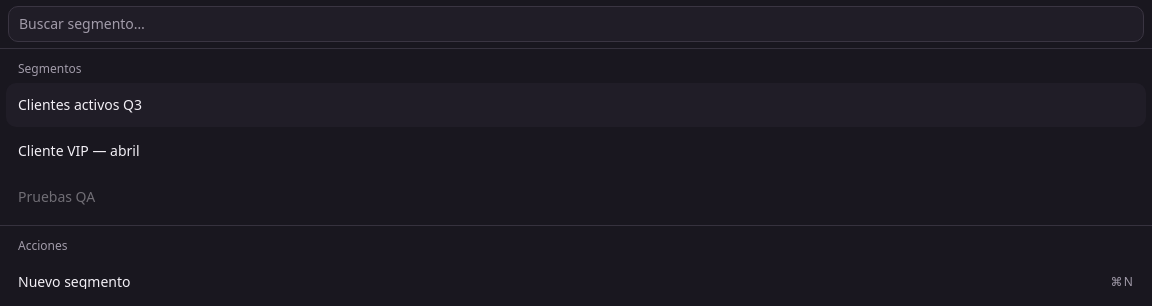
Command › shows the empty message when nothing matches
Step 1. Type "@@@" into the dropdown → (576, 24), box [8,6,1144,42]
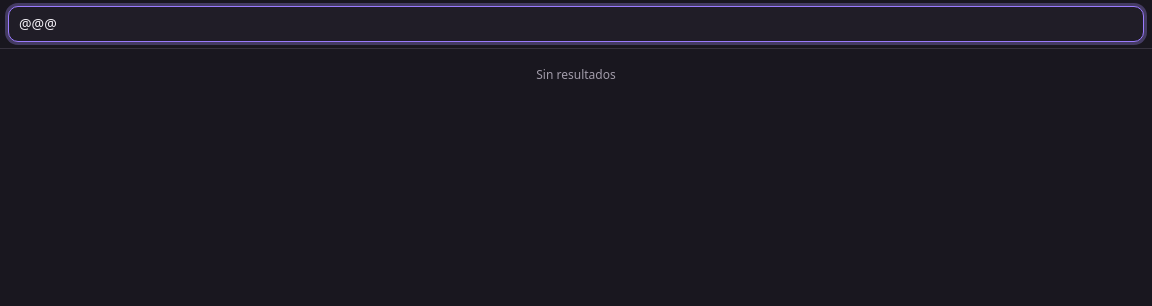
Expected: the text "Sin resultados" is shown, [536,66,616,83]
Expected: no options are shown
